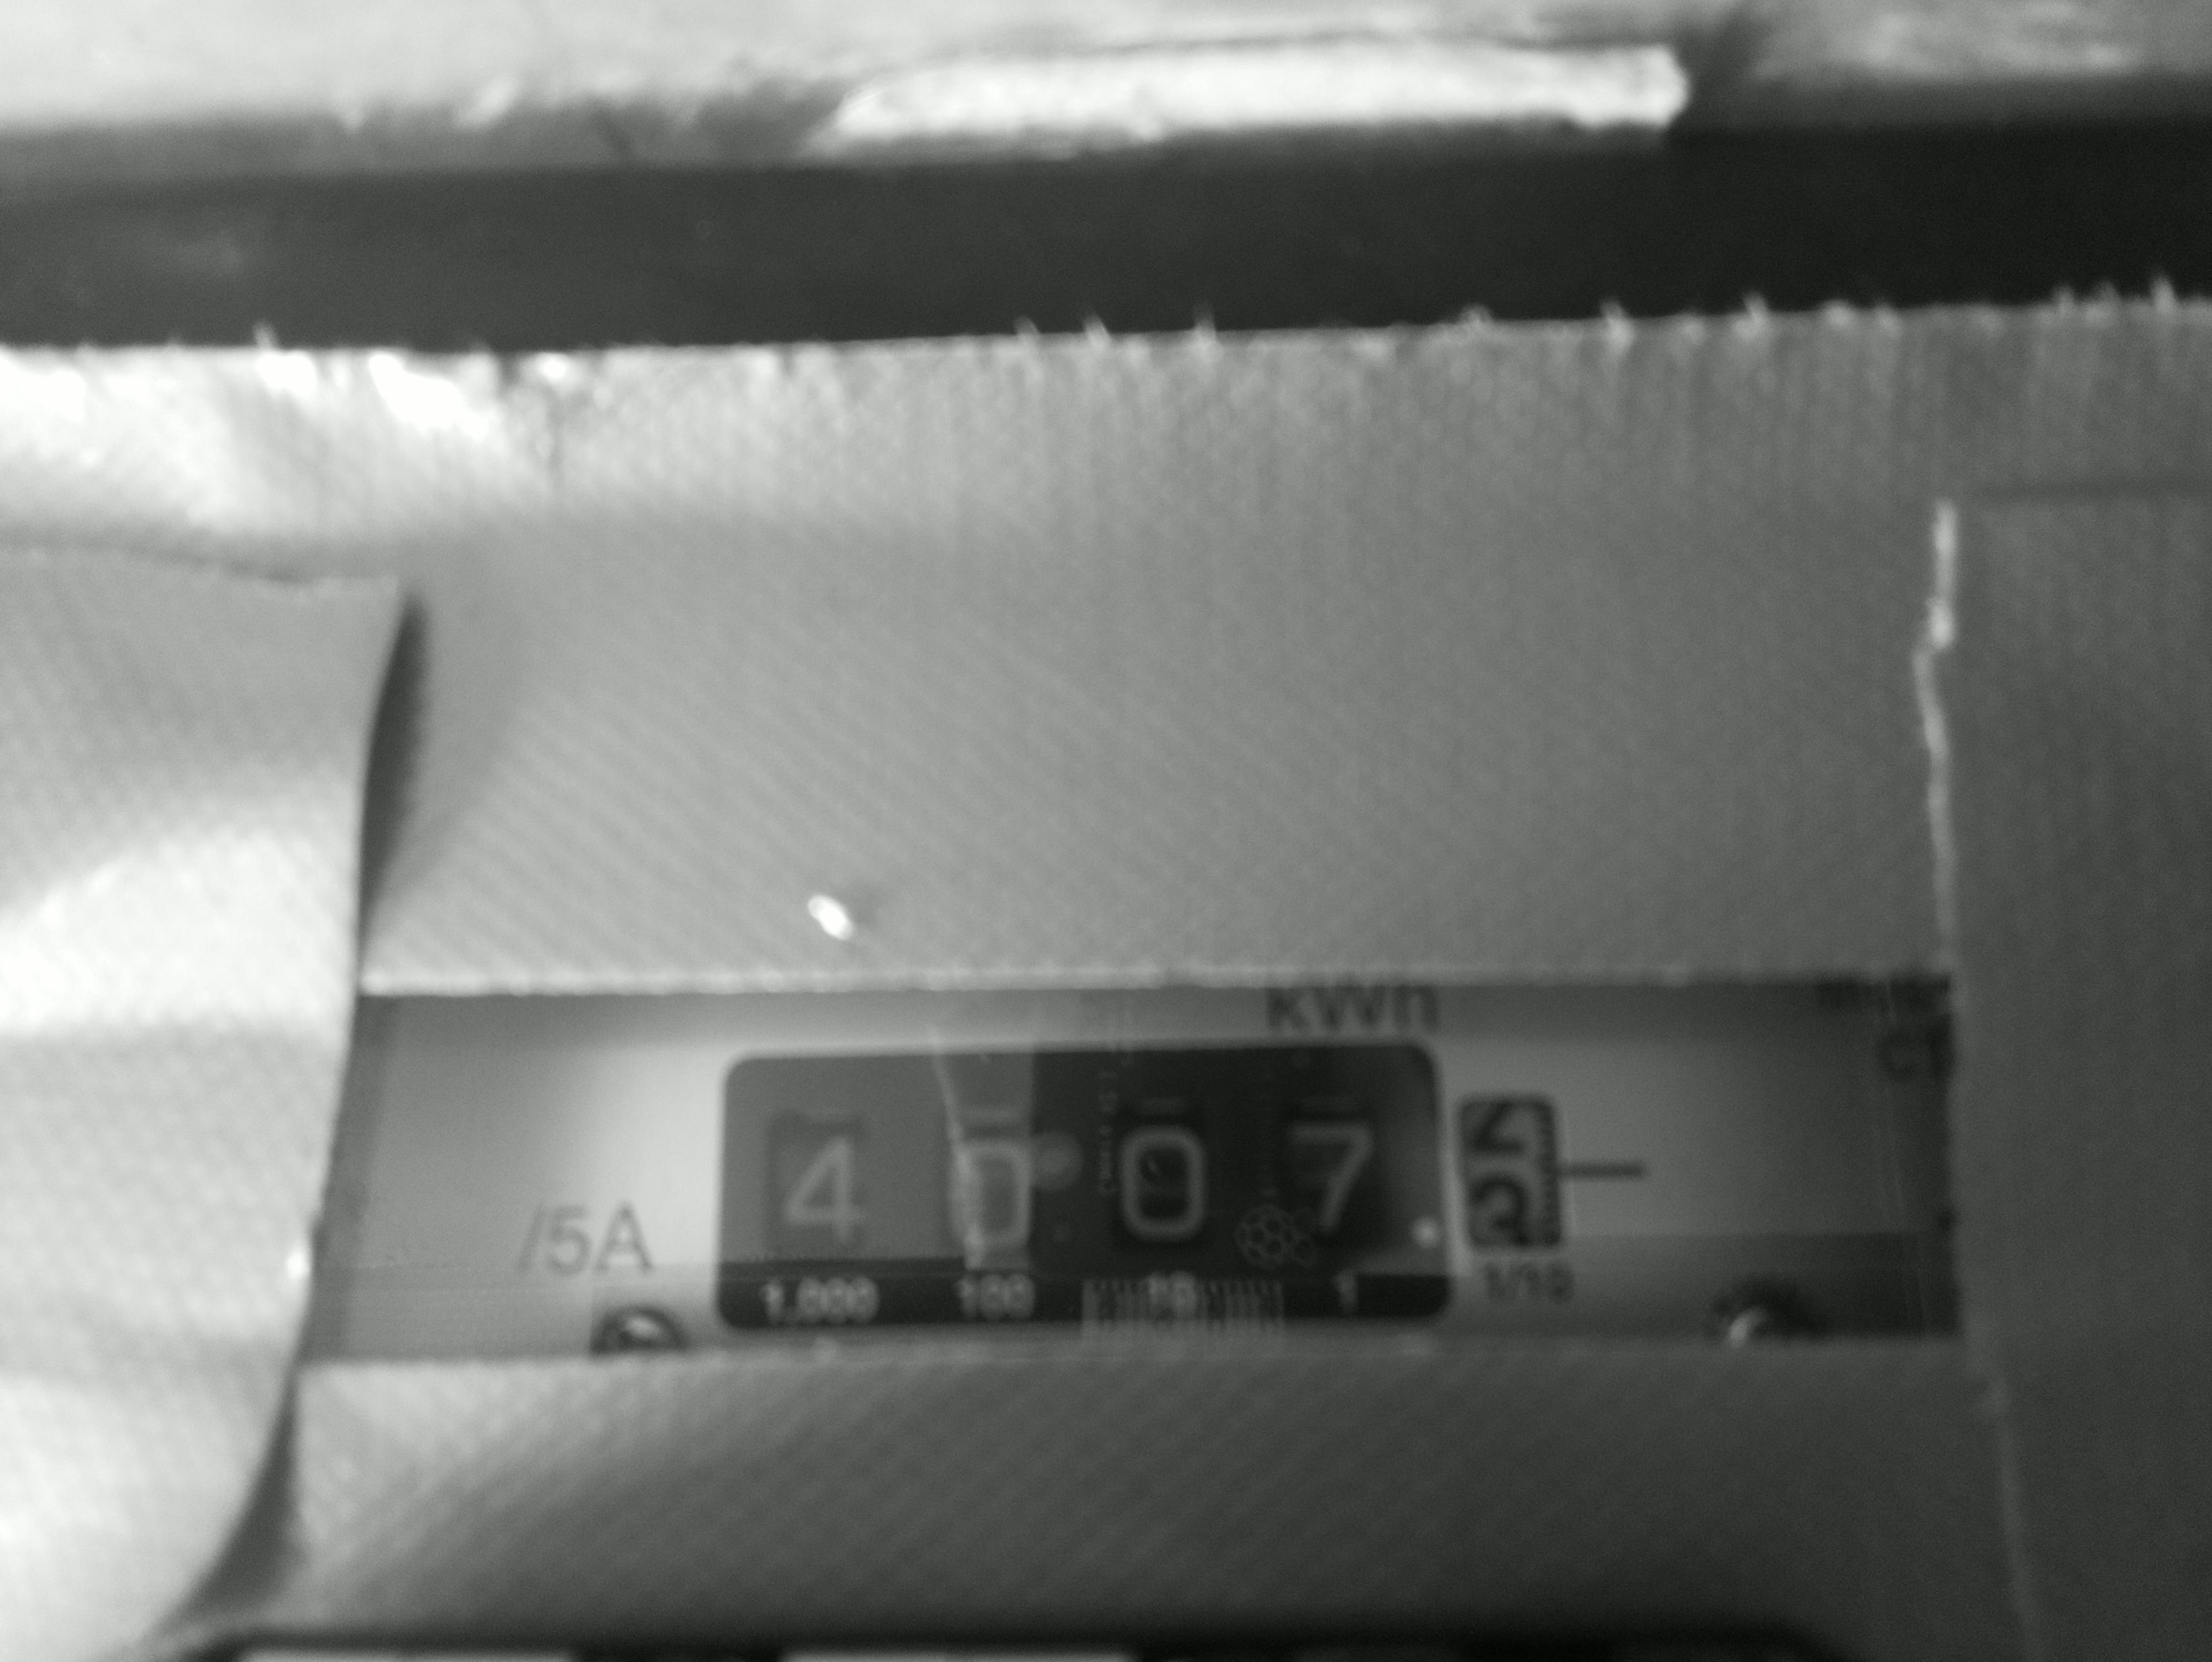meter_box: (674, 997, 1615, 1372)
